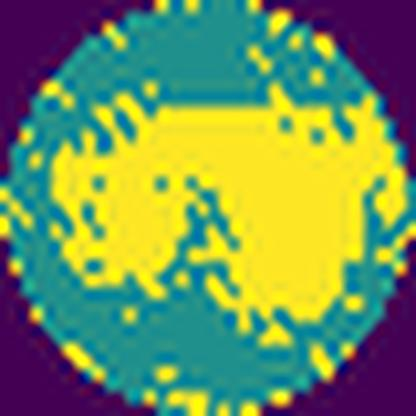Loc: (49, 100, 410, 346)
